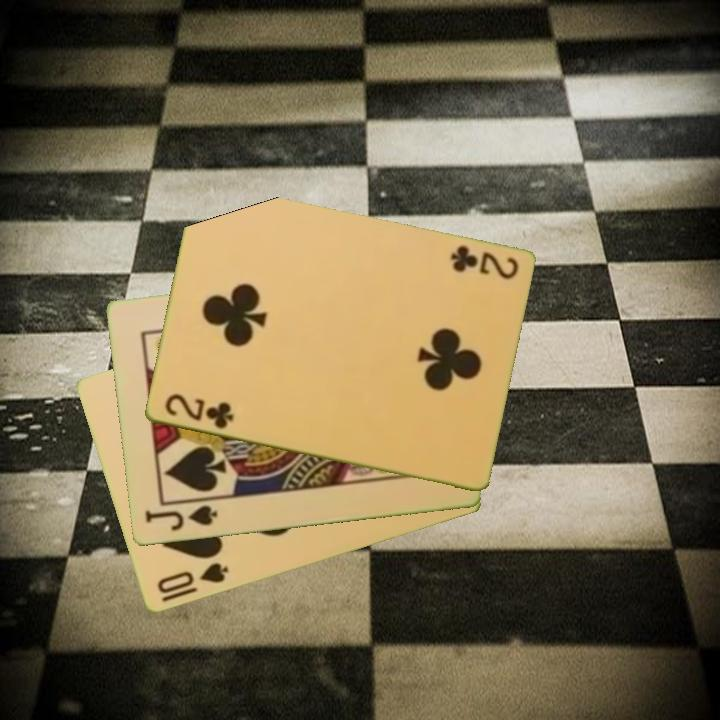10s: (153, 559, 231, 597)
2c: (160, 390, 236, 433), (446, 242, 521, 283)
Js: (141, 502, 220, 534)
